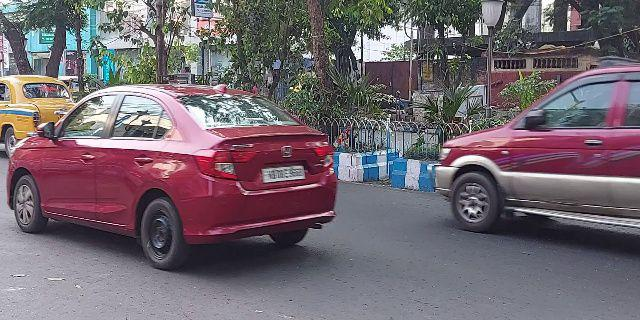Car: (7, 80, 339, 270), (431, 67, 640, 234), (1, 76, 76, 160)
